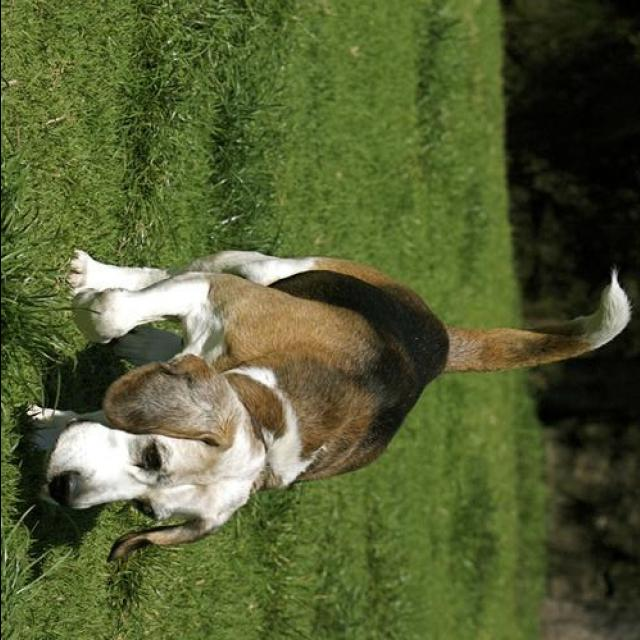beagle: (17, 247, 638, 567)
